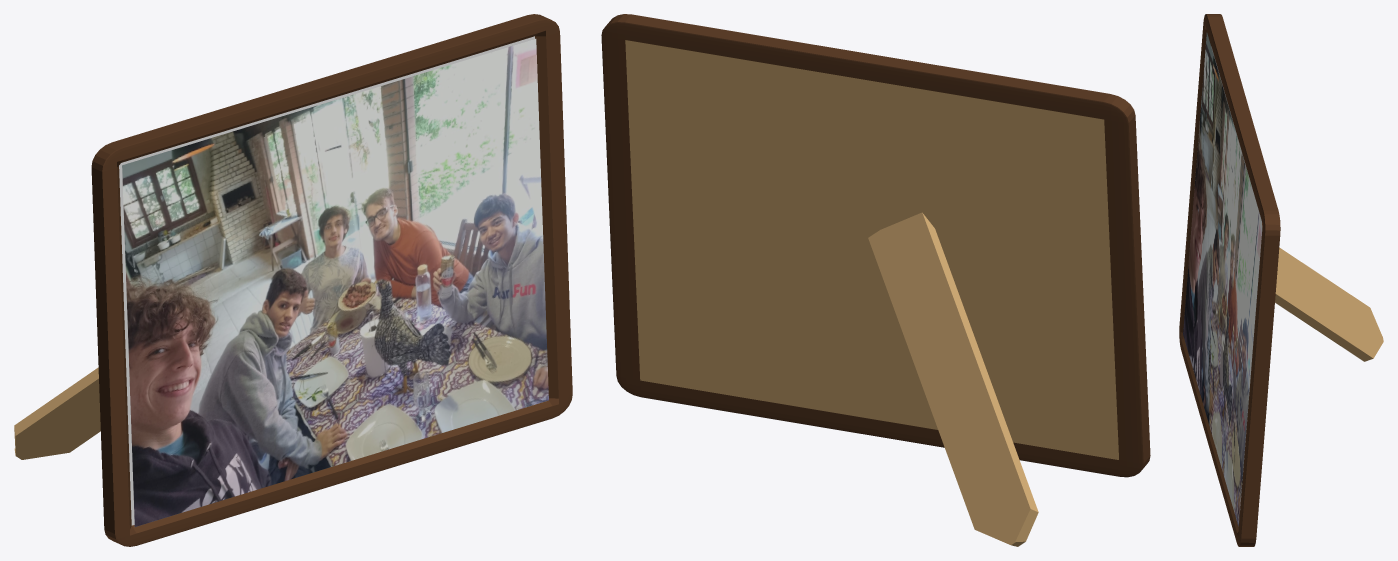
The model's file is Foto.glb.
3 views of the same model, side by side, from view 1: azimuth 30°, elevation 25°; view 2: azimuth 150°, elevation 25°; view 3: azimuth 270°, elevation 25° (orthographic). The views are drawn at different scales.
Parts seen in each view (by area): view 1: Cube; view 2: Cube; view 3: Cube.
Boxes of the visible parts, <box> form: Cube: <box>14,14,572,546</box>; Cube: <box>601,14,1150,546</box>; Cube: <box>1179,14,1383,546</box>.
Bounding box in the file's own units: 1.11 × 0.839 × 0.4573.
Materials: 5 (1 with a texture image).
